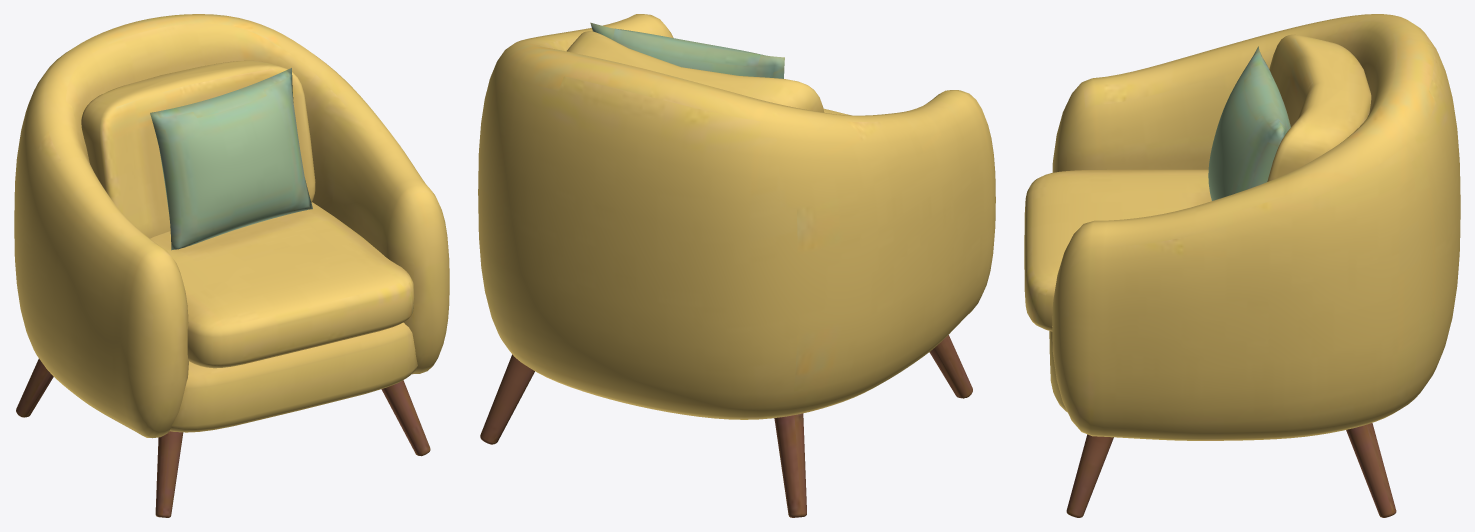
The model's file is armchair.glb.
3 renders of one model, left to right at view 1: azimuth 30°, elevation 25°; view 2: azimuth 150°, elevation 25°; view 3: azimuth 270°, elevation 25°, orthographic. The views are drawn at different scales.
Visible parts, largest first — view 1: armchair_body; view 2: armchair_body; view 3: armchair_body.
Boxes of the visible parts, box(x1,y1,x2,y2) form: armchair_body: box(14, 14, 449, 517); armchair_body: box(478, 14, 995, 517); armchair_body: box(1024, 14, 1460, 517).
Bounding box in the file's own units: 0.7931 × 0.785 × 0.79.
Materials: 1 (1 with a texture image).
